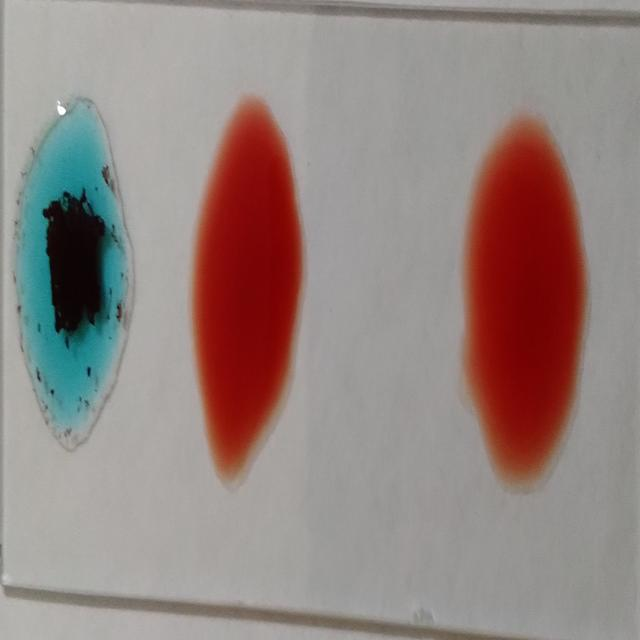A: (15, 91, 128, 451)
